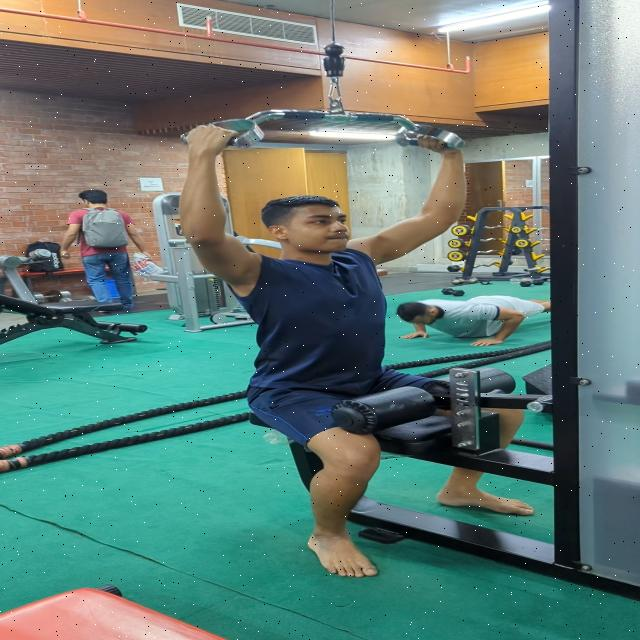Normal_LatPulldown: (169, 120, 536, 587)
